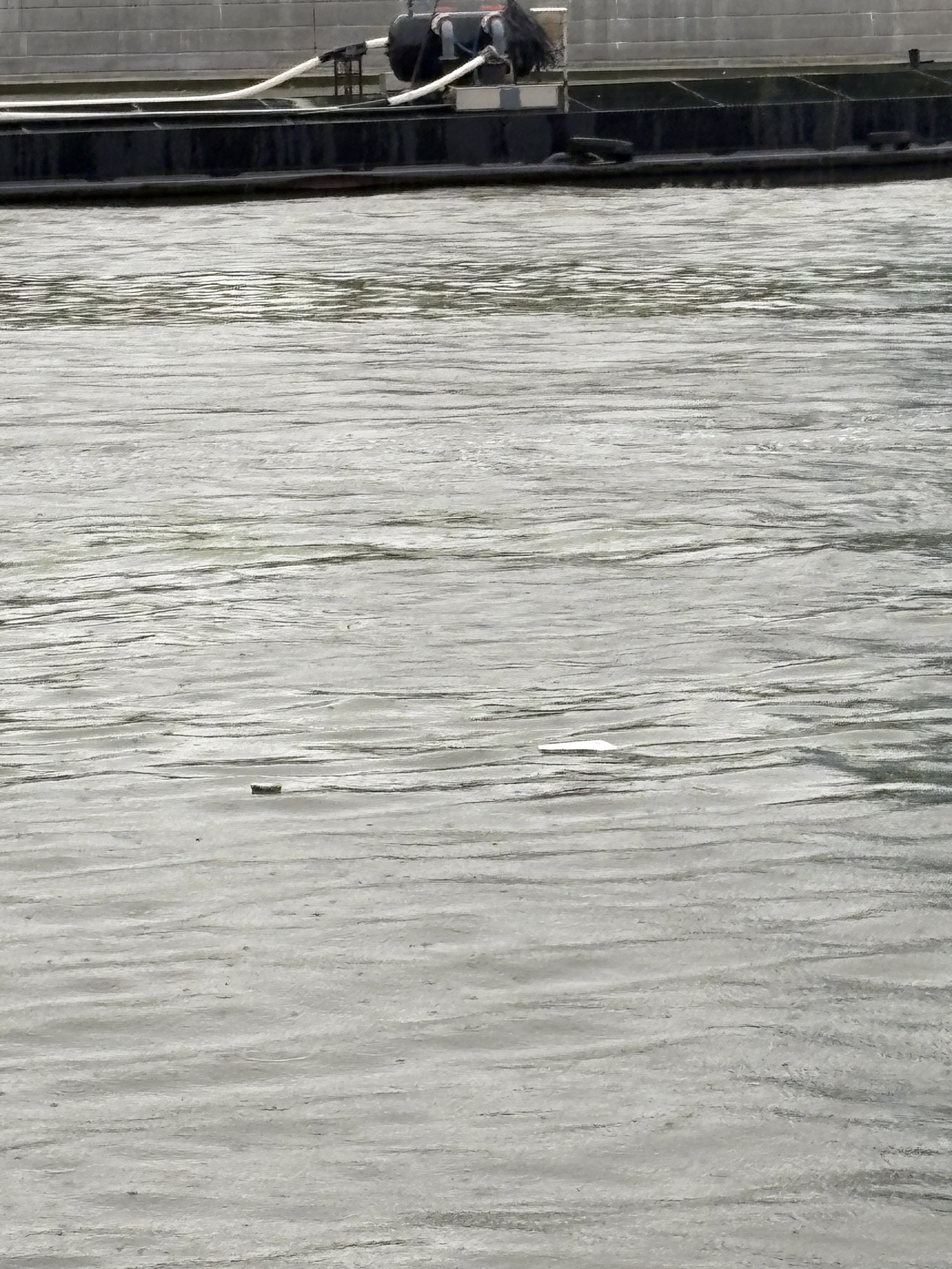Plastic wastes: (553, 454, 569, 560), (587, 899, 595, 933)
